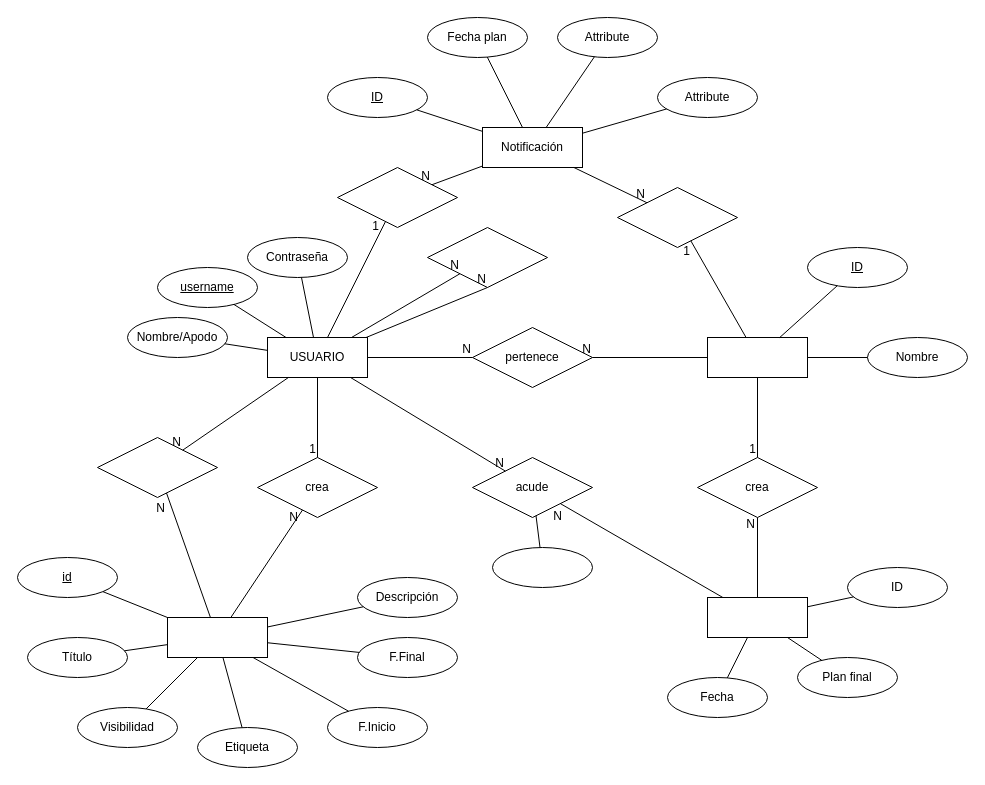
The diagram is 985 pixels wide and 785 high, and some of its shapes have lost their labels. Here are the shapes that lost their labels. From the top down, the centre of each, then its label:
At point (397, 197): "recibe".
At point (677, 217): "menciona".
At point (487, 257): "amistad".
At point (757, 357): "GRUPO".
At point (157, 467): "participa".
At point (542, 567): "Sugerencia".
At point (217, 637): "EVENTO PERSONAL".
At point (757, 617): "EVENTO GRUPAL".
